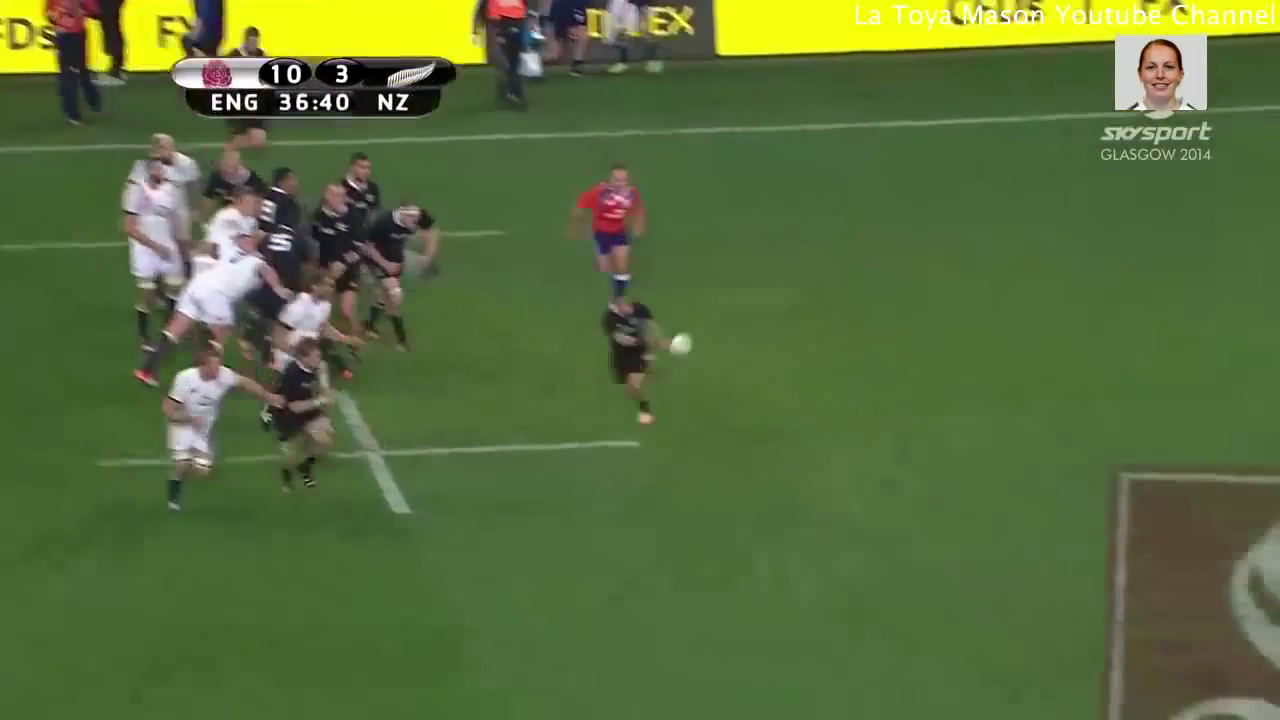10_metre: (97, 378, 646, 525)
ball: (664, 327, 703, 364)
player: (125, 244, 282, 370), (361, 192, 455, 357), (161, 353, 247, 511), (257, 343, 345, 494), (118, 159, 185, 355), (564, 162, 653, 298), (596, 291, 671, 445), (303, 189, 369, 342), (258, 282, 345, 343), (110, 132, 199, 188), (192, 190, 263, 246), (189, 146, 270, 192), (259, 156, 305, 228), (335, 154, 379, 201)
